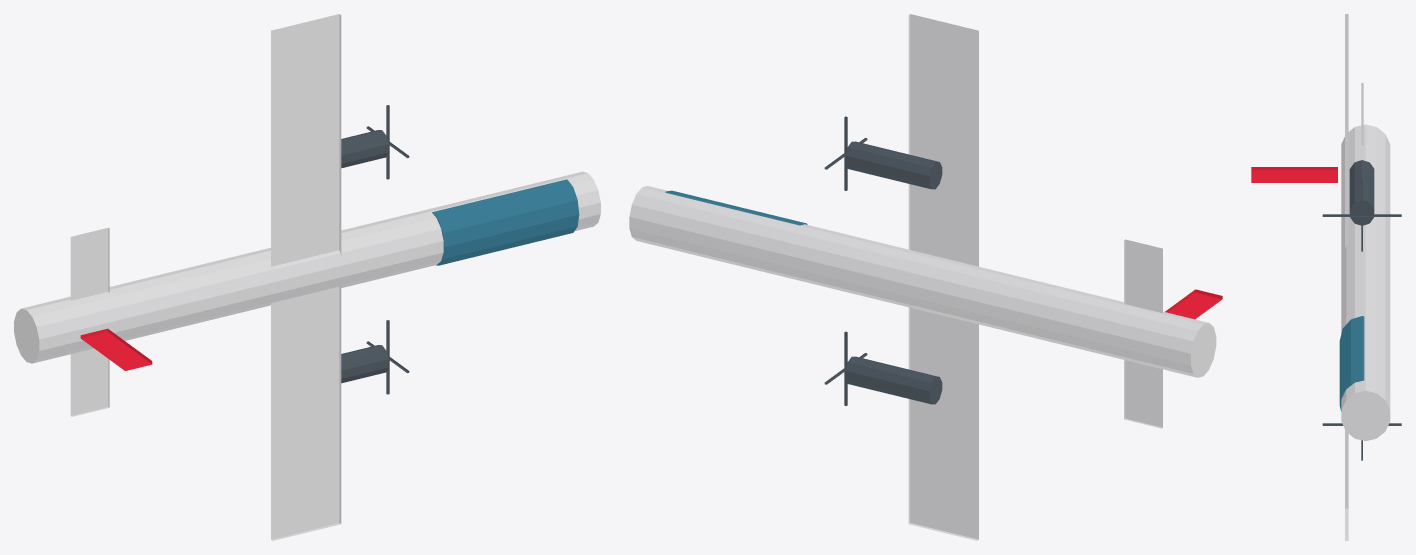
3 views of the same model, side by side, from view 1: azimuth 30°, elevation 25°; view 2: azimuth 150°, elevation 25°; view 3: azimuth 270°, elevation 25° (orthographic). The views are drawn at different scales.
Parts seen in each view (by area): view 1: De Havilland Dash 8 Q400; view 2: De Havilland Dash 8 Q400; view 3: De Havilland Dash 8 Q400.
Boxes of the visible parts, left/top/right/bottom form: De Havilland Dash 8 Q400: left=14, top=14, right=600, bottom=540; De Havilland Dash 8 Q400: left=629, top=14, right=1222, bottom=540; De Havilland Dash 8 Q400: left=1251, top=14, right=1401, bottom=540.
Size of the model in its own units: 32.8 by 28.4 by 7.81.
